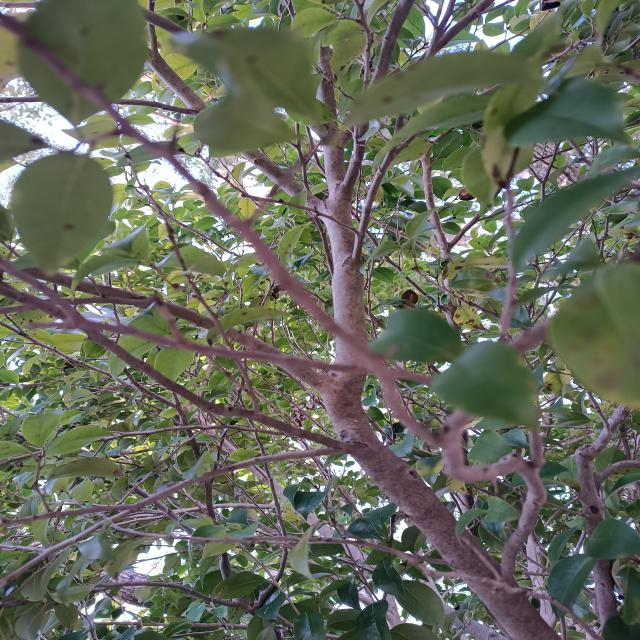Branch: (322, 46, 564, 640)
Twig: (3, 13, 437, 447), (2, 257, 357, 451), (13, 266, 335, 395), (148, 46, 326, 214), (0, 448, 340, 527), (344, 0, 411, 197), (0, 511, 134, 588), (353, 114, 405, 257), (355, 206, 437, 259), (420, 156, 448, 250), (448, 210, 480, 250)
